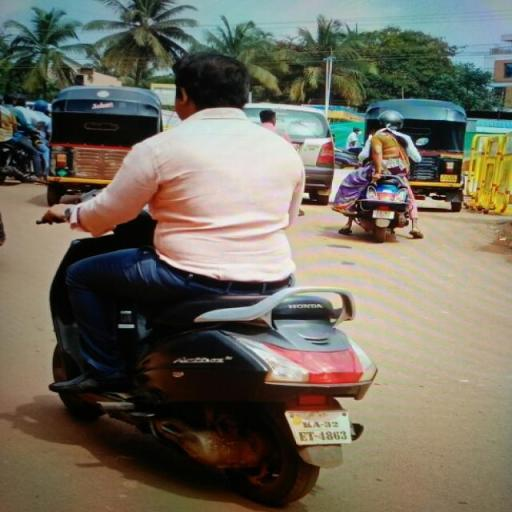bike: (28, 45, 388, 505)
numberplate: (288, 406, 354, 448)
withouthelmet: (174, 54, 244, 110)
